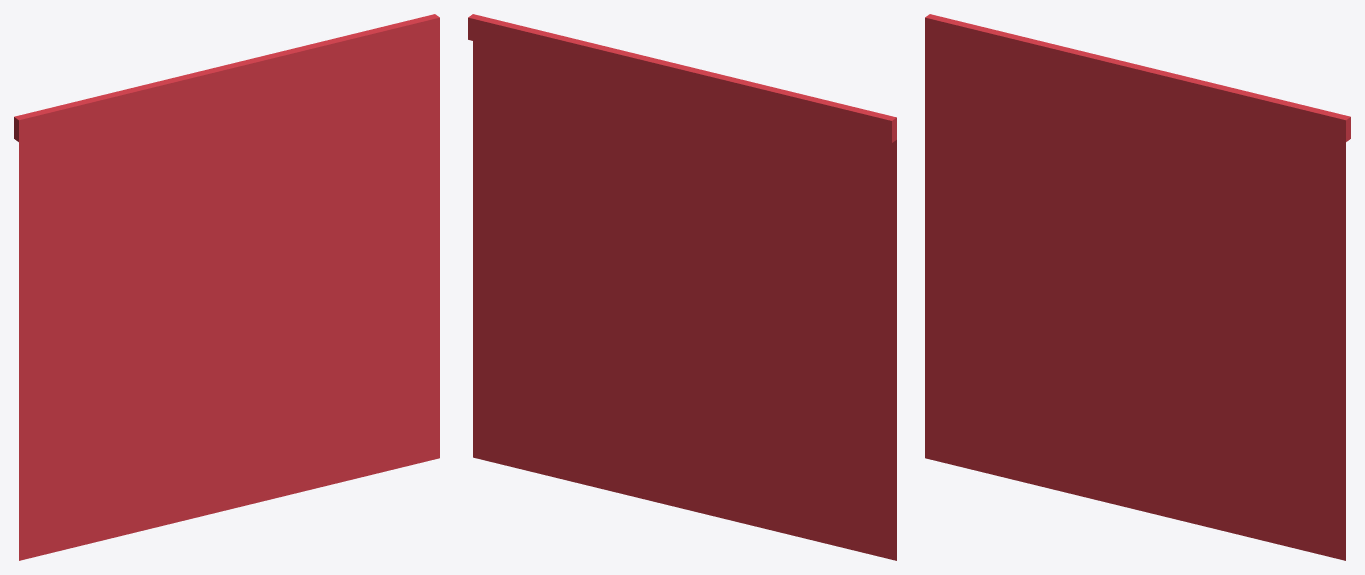
File: trim_pared_baja 1.fbx
3 views of the same model, side by side, from view 1: azimuth 30°, elevation 25°; view 2: azimuth 150°, elevation 25°; view 3: azimuth 330°, elevation 25° (orthographic).
Visible parts, largest first — view 1: Plane.010; view 2: Plane.010; view 3: Plane.010.
Part boxes in pixels (x1,y1,x2,y2): Plane.010: (14,14,439,560); Plane.010: (468,14,896,560); Plane.010: (925,14,1350,560).
Bounding box in the file's own units: 30 × 30 × 0.602.
